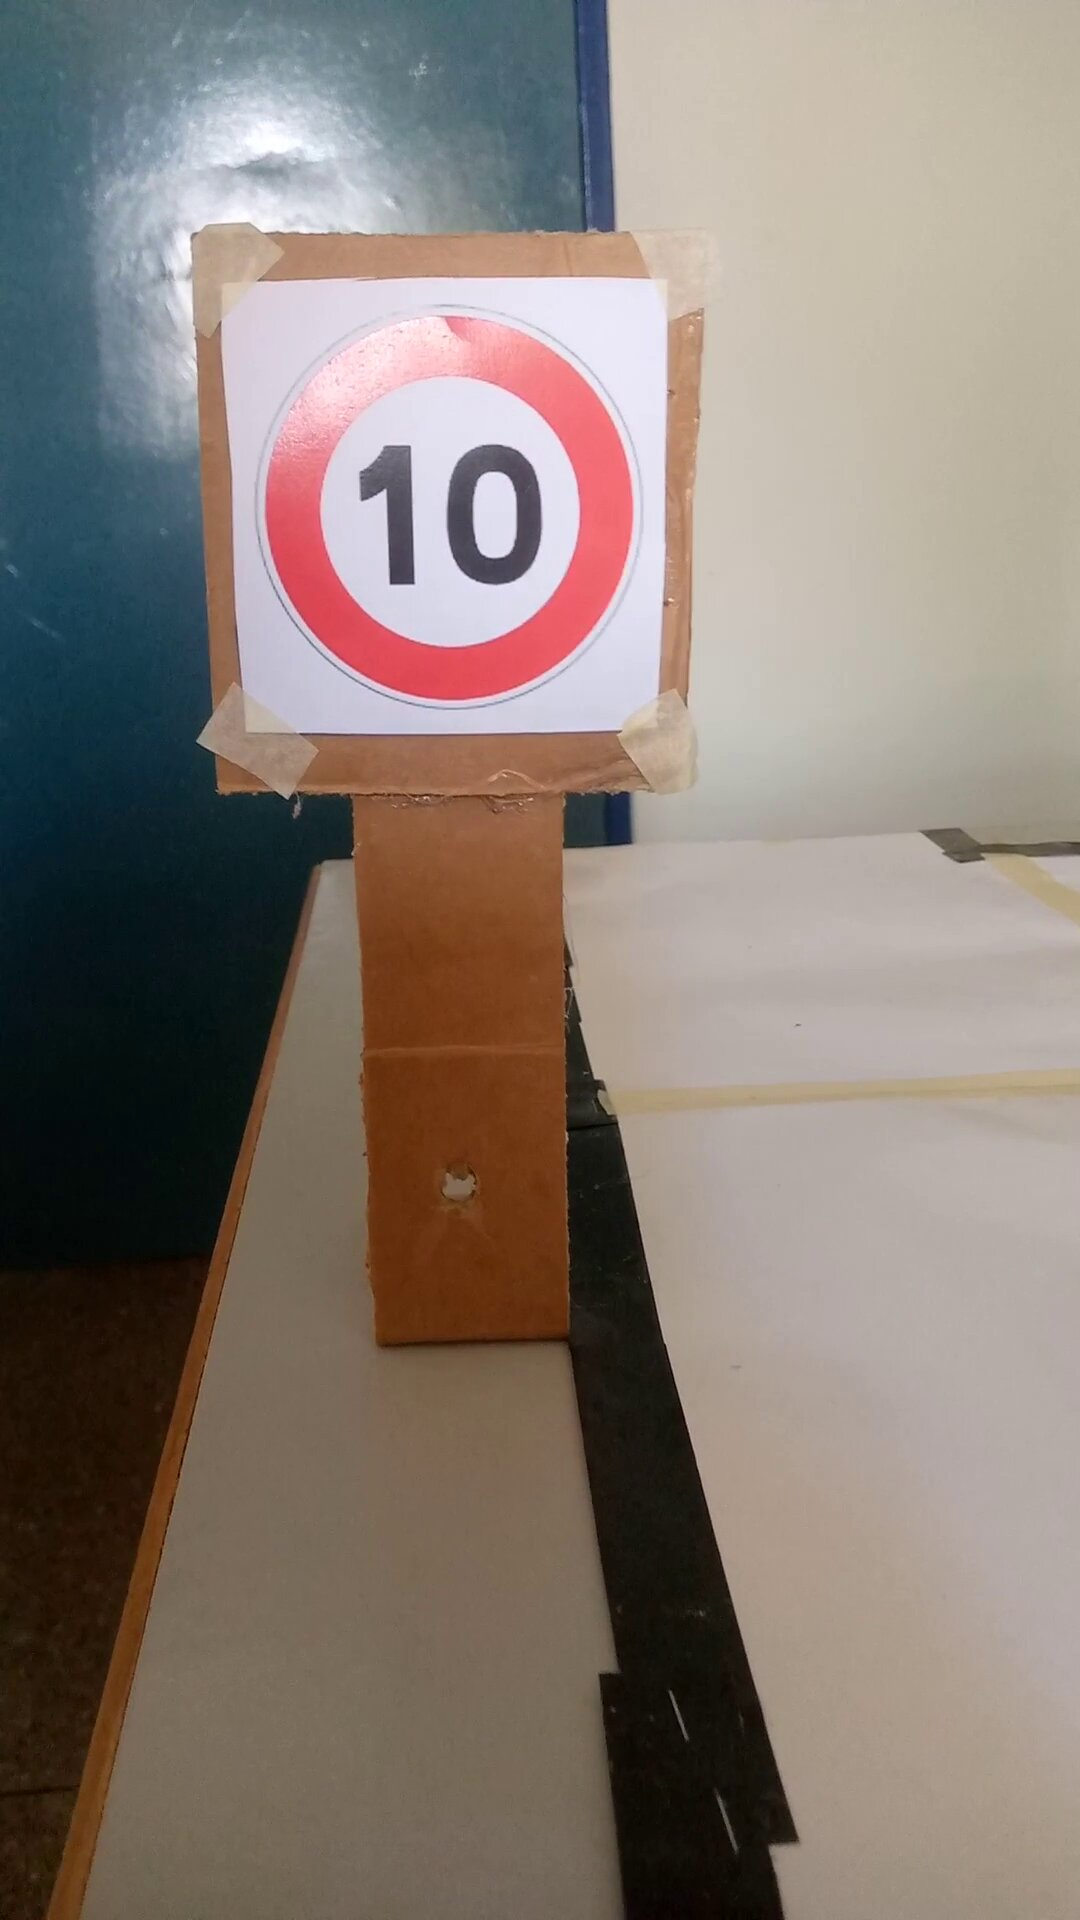panel011: (215, 274, 673, 742)
